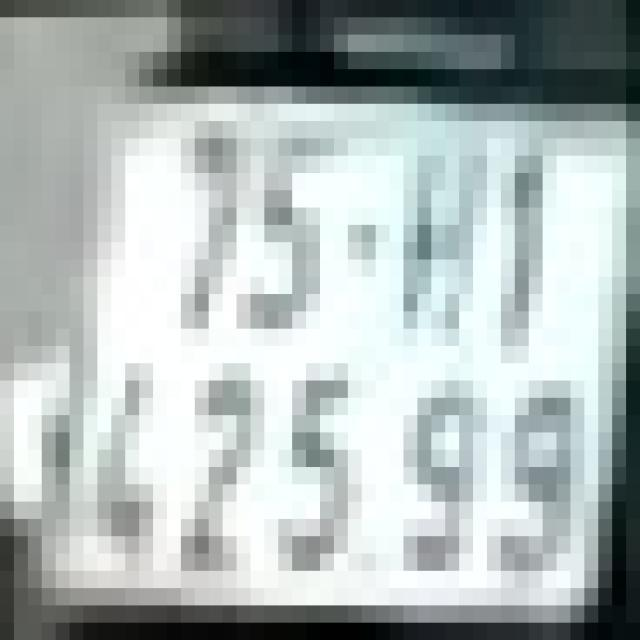1: (501, 156, 556, 364)
2: (180, 363, 250, 571)
4: (97, 363, 167, 571)
5: (250, 138, 334, 329), (278, 363, 348, 571)
7: (181, 121, 236, 329)
9: (500, 380, 570, 571), (404, 380, 474, 571)
H: (404, 156, 474, 347)
